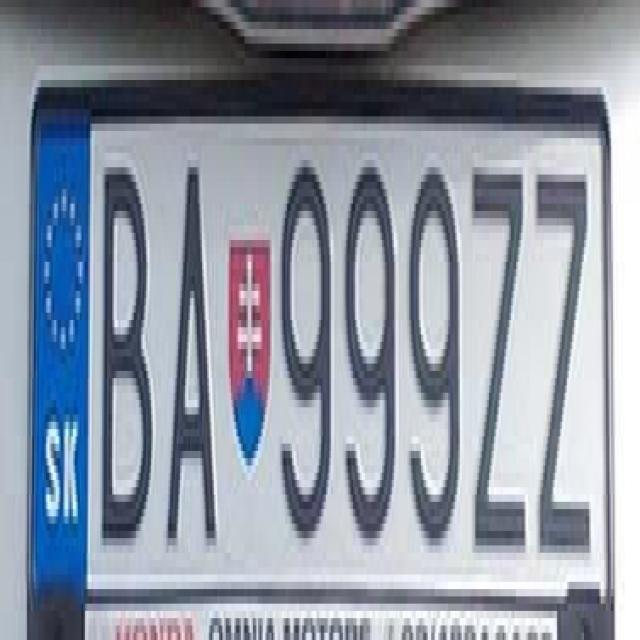EU: (31, 100, 608, 620)
Slovaquie: (34, 95, 91, 618)
